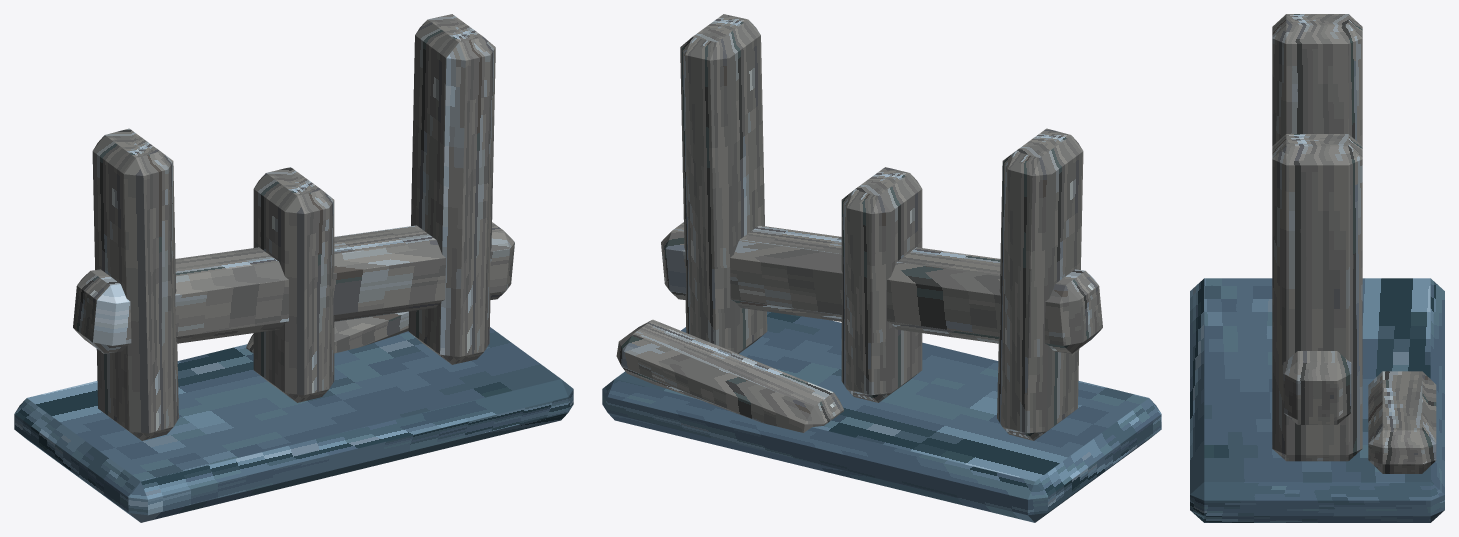
The model's file is barricada_partida.fbx.
The picture shows the model from 3 angles, left to right: view 1: azimuth 30°, elevation 25°; view 2: azimuth 150°, elevation 25°; view 3: azimuth 270°, elevation 25°; orthographic projection.
Visible parts, largest first — view 1: novo_barricada_partida; view 2: novo_barricada_partida; view 3: novo_barricada_partida.
Boxes of the visible parts, bbox=[...] form: novo_barricada_partida: bbox=[14, 14, 573, 522]; novo_barricada_partida: bbox=[602, 14, 1161, 522]; novo_barricada_partida: bbox=[1190, 14, 1444, 522].
Size of the model in its own units: 0.9 by 0.7005 by 0.45.
